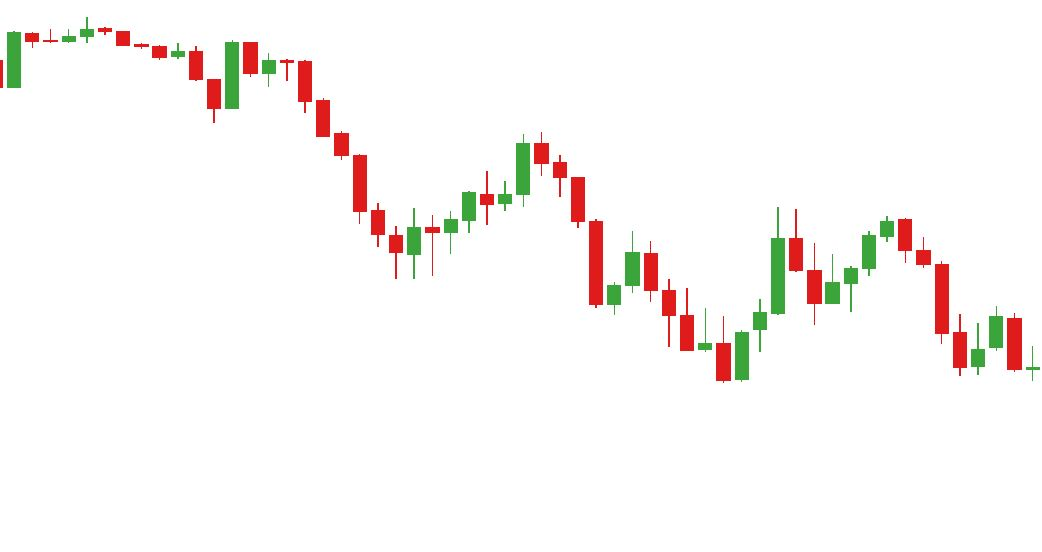sell: (623, 208, 804, 312)
